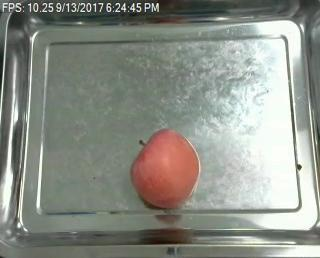apple: (131, 127, 200, 209)
